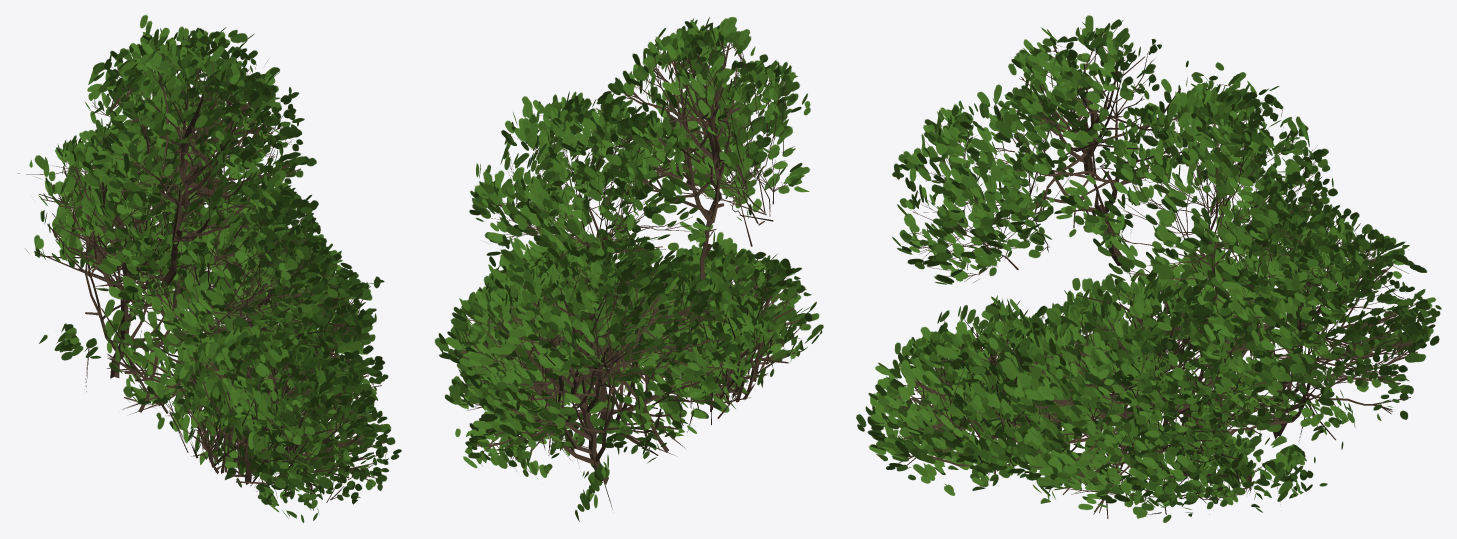
The picture shows the model from 3 angles, left to right: view 1: azimuth 30°, elevation 25°; view 2: azimuth 150°, elevation 25°; view 3: azimuth 270°, elevation 25°; orthographic projection. The views are drawn at different scales.
Visible parts, largest first — view 1: oak 01.001_trunk_Mat.001_0.178; view 2: oak 01.001_trunk_Mat.001_0.178; view 3: oak 01.001_trunk_Mat.001_0.178.
Part boxes in pixels (<box>): oak 01.001_trunk_Mat.001_0.178: <box>17,14,401,522</box>; oak 01.001_trunk_Mat.001_0.178: <box>434,17,823,521</box>; oak 01.001_trunk_Mat.001_0.178: <box>856,15,1441,522</box>.
Size of the model in its own units: 2.07 by 3.43 by 4.2.
Materials: 2 (1 with a texture image).
